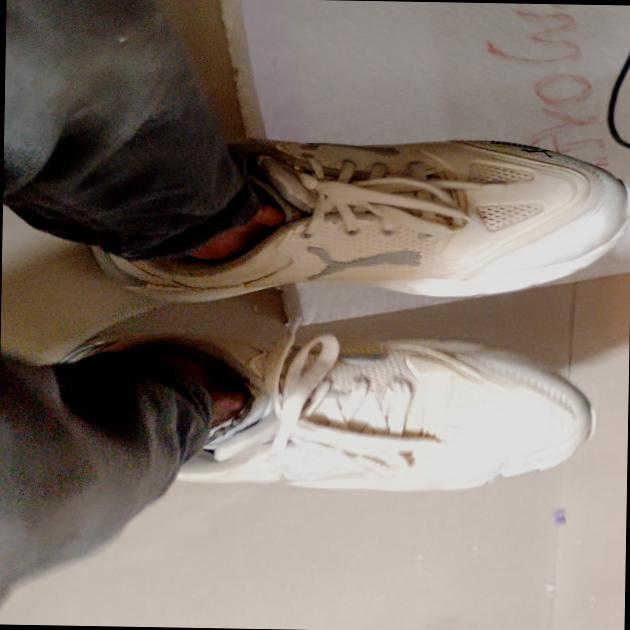shoes: (120, 94, 625, 532)
